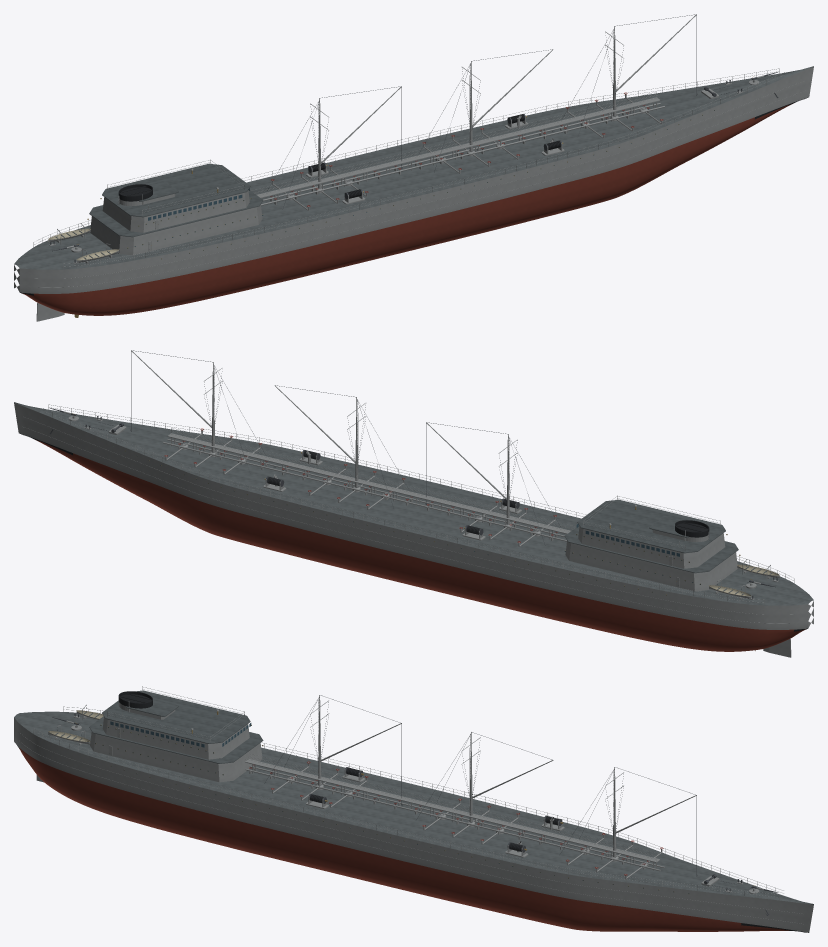
Rendered from su_support_1942.glb.
3 views of the same model, one above another, from view 1: azimuth 30°, elevation 25°; view 2: azimuth 150°, elevation 25°; view 3: azimuth 330°, elevation 25° (orthographic).
Parts seen in each view (by area): view 1: Fleet support ship · 1942; view 2: Fleet support ship · 1942; view 3: Fleet support ship · 1942.
Boxes of the visible parts, x1,y1,x2,y2 form: Fleet support ship · 1942: (14, 14, 813, 321); Fleet support ship · 1942: (14, 350, 813, 657); Fleet support ship · 1942: (14, 686, 813, 932).
Size of the model in its own units: 154 by 29.11 by 19.09.
Materials: 10 (9 with a texture image).
